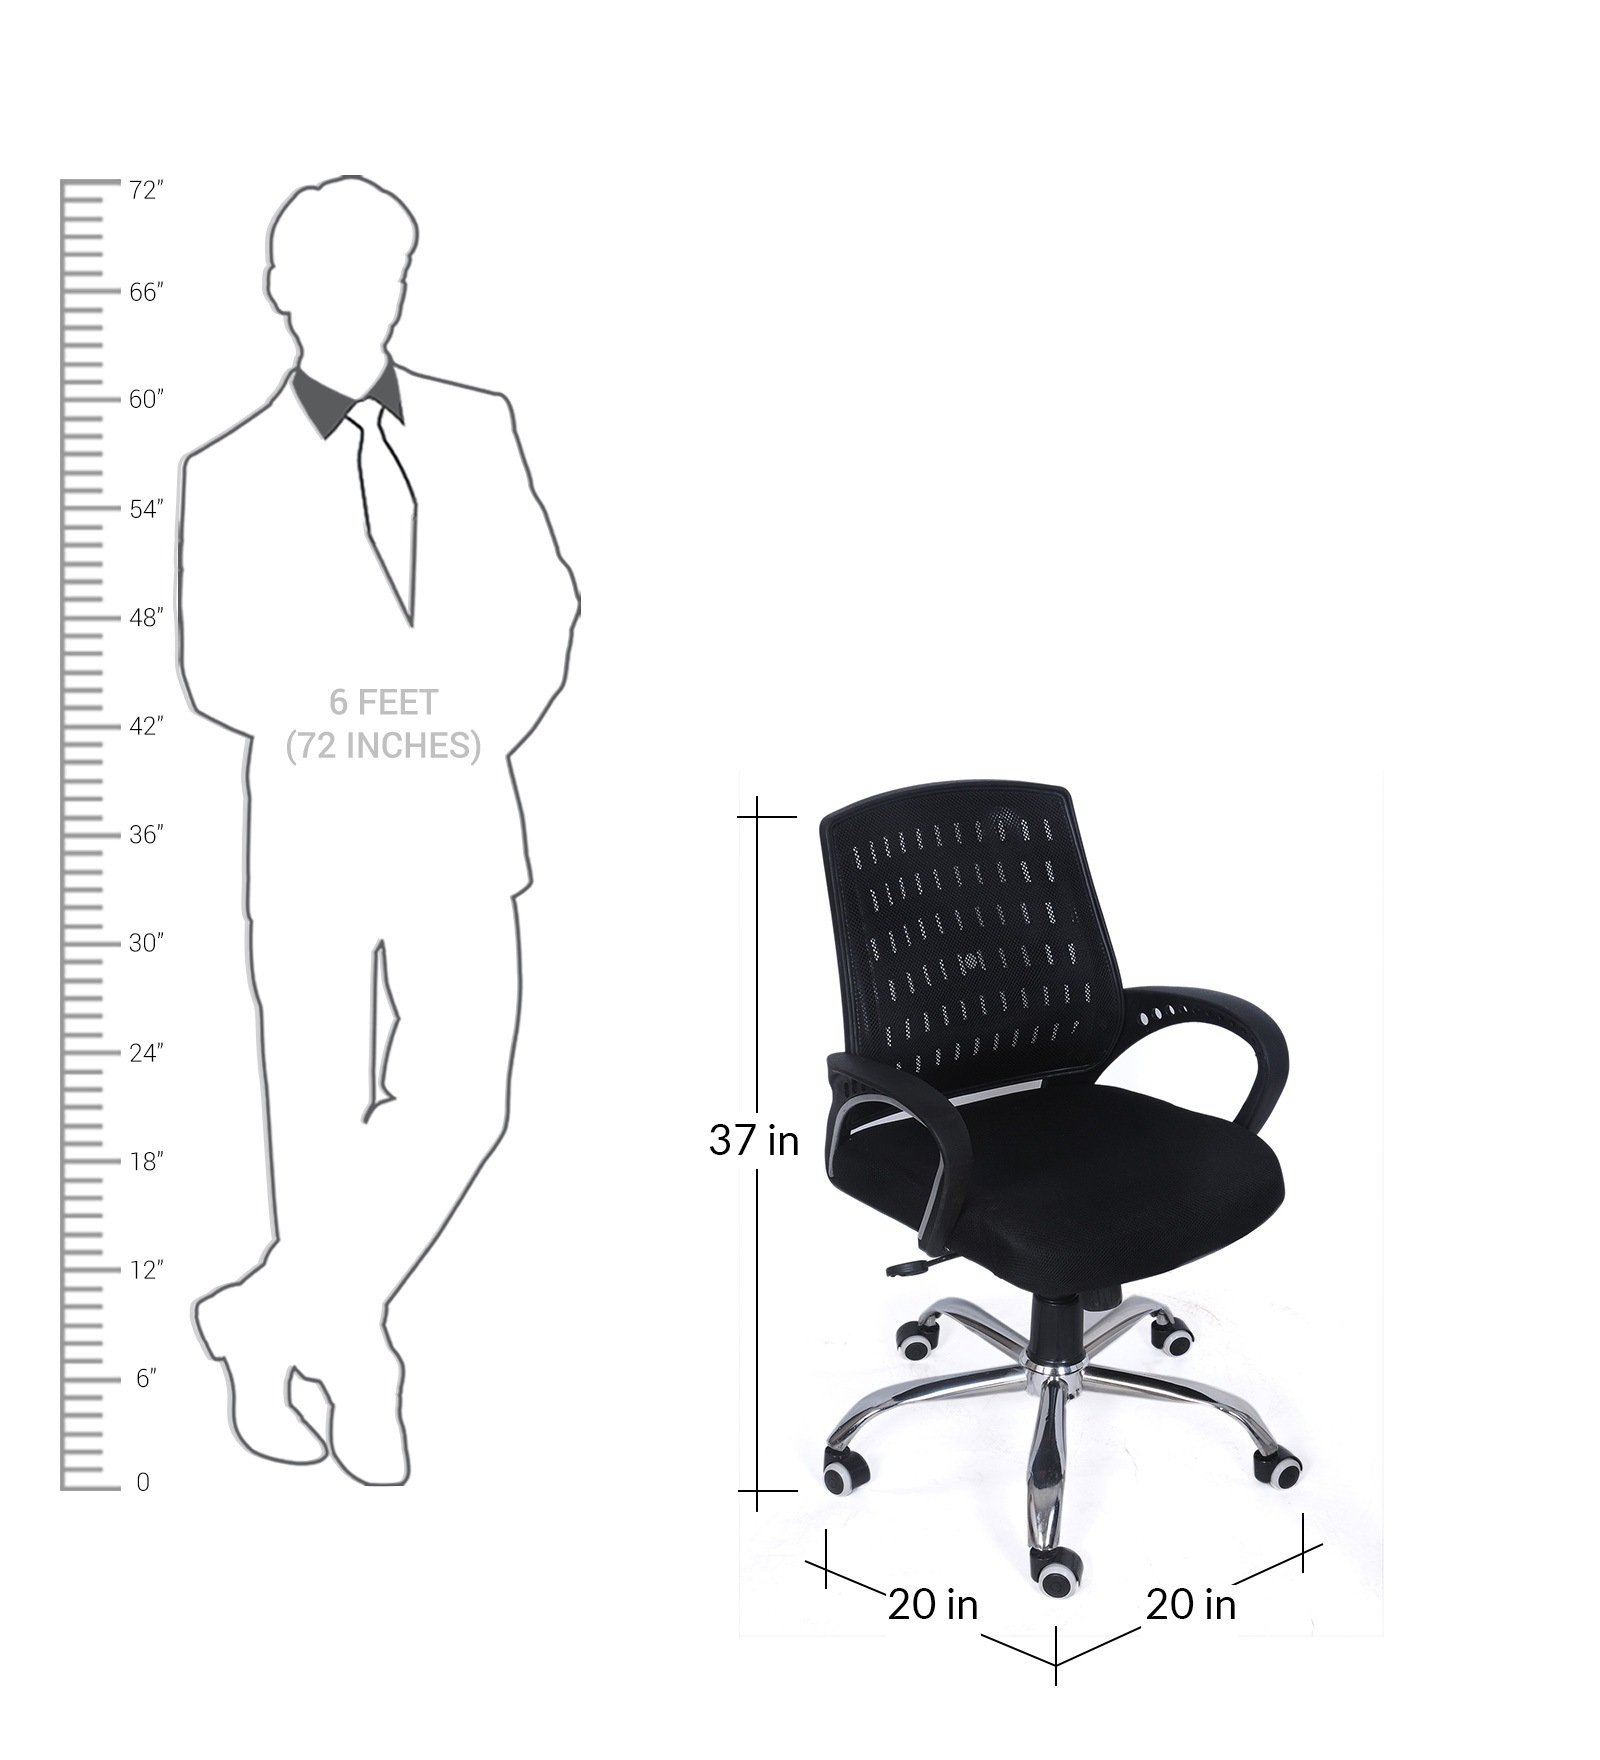Briny Mid Back Ergonomic Chair By Furniease: (789, 767, 1336, 1611)
